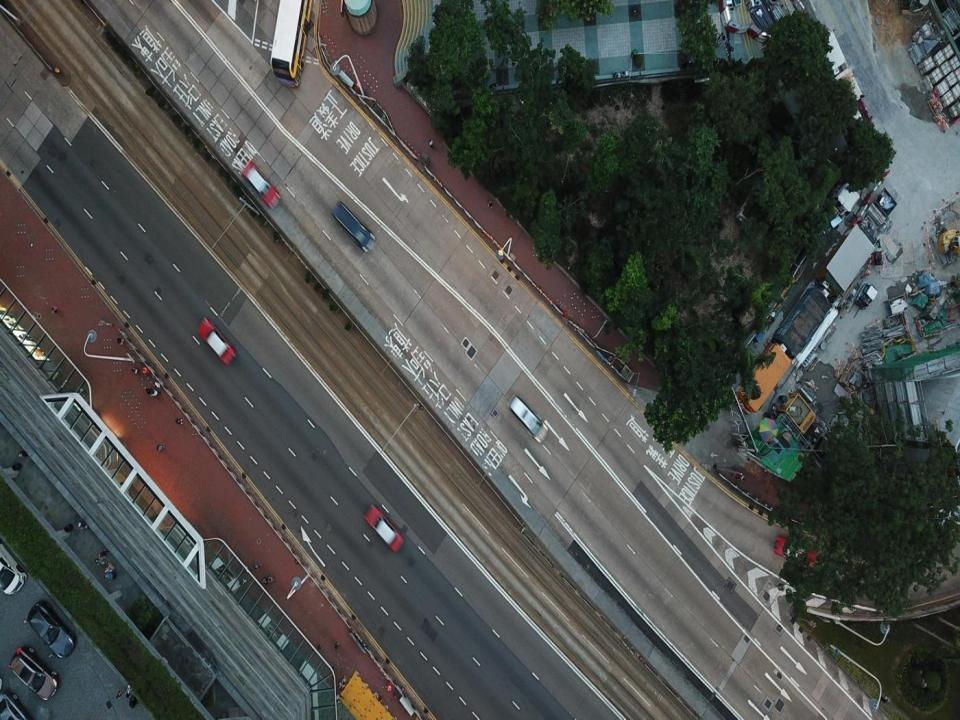bus: (270, 0, 312, 92)
car: (6, 647, 60, 703), (24, 601, 75, 660), (196, 314, 237, 366), (363, 504, 404, 552), (241, 161, 280, 210), (775, 534, 818, 572), (0, 684, 43, 719)
van: (332, 198, 376, 252), (509, 398, 549, 442), (0, 541, 29, 597)
